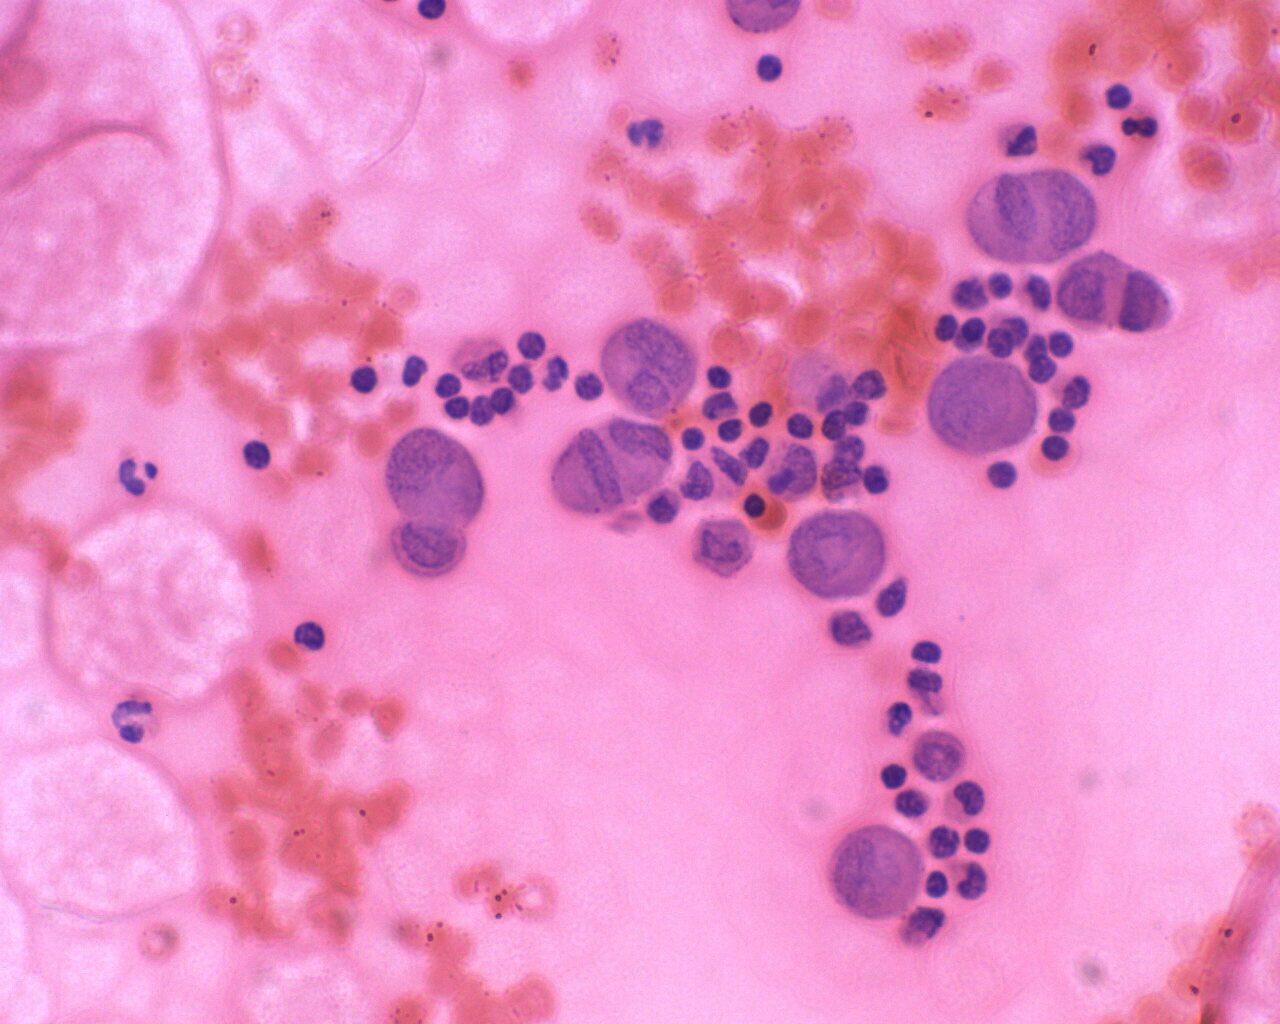ab: (968, 158, 1098, 264), (920, 352, 1045, 453), (375, 427, 489, 526), (786, 498, 887, 600), (605, 310, 697, 420), (823, 822, 921, 926), (390, 518, 474, 580)
lymph: (234, 434, 283, 478), (984, 451, 1023, 494), (748, 45, 793, 82), (876, 758, 910, 797)
neutro: (106, 449, 165, 501)
